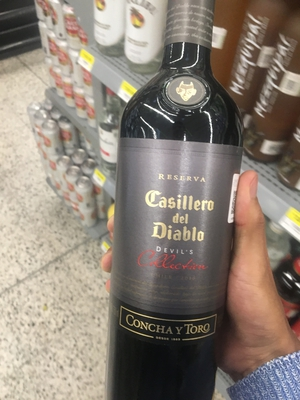casillero del diablo devils collection rojo: (113, 6, 255, 400)
